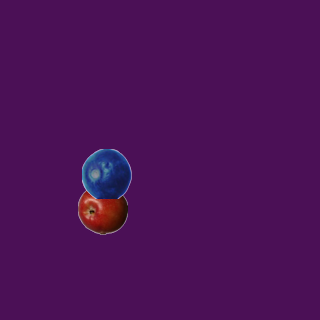Apple Braeburn: (77, 184, 127, 234)
Huckleberry: (81, 148, 131, 198)
